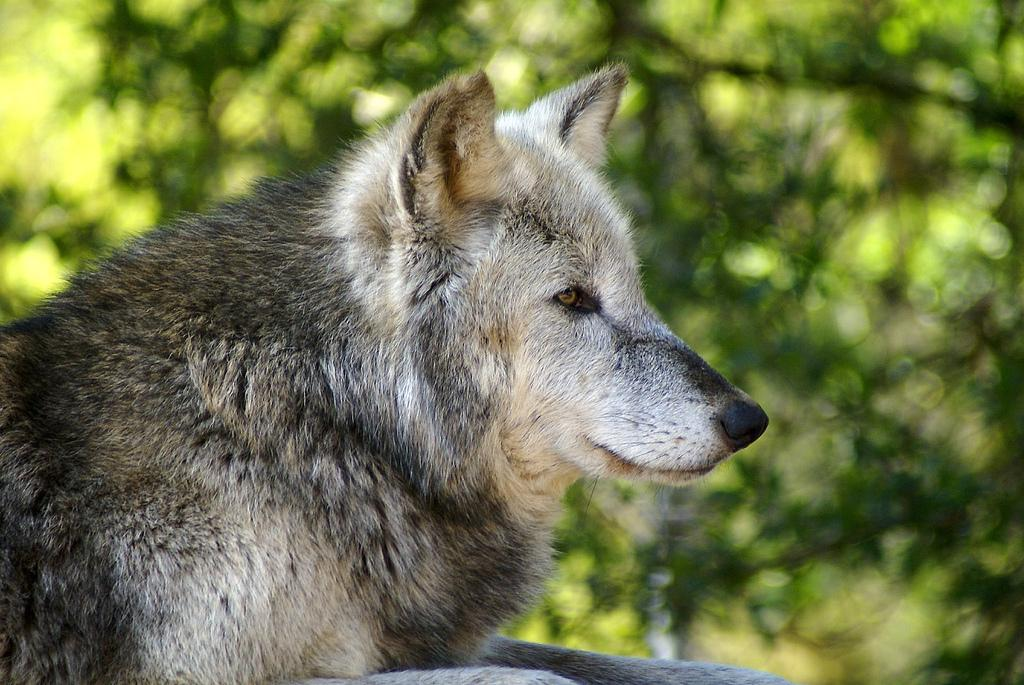Wolf: (1, 65, 775, 685)
